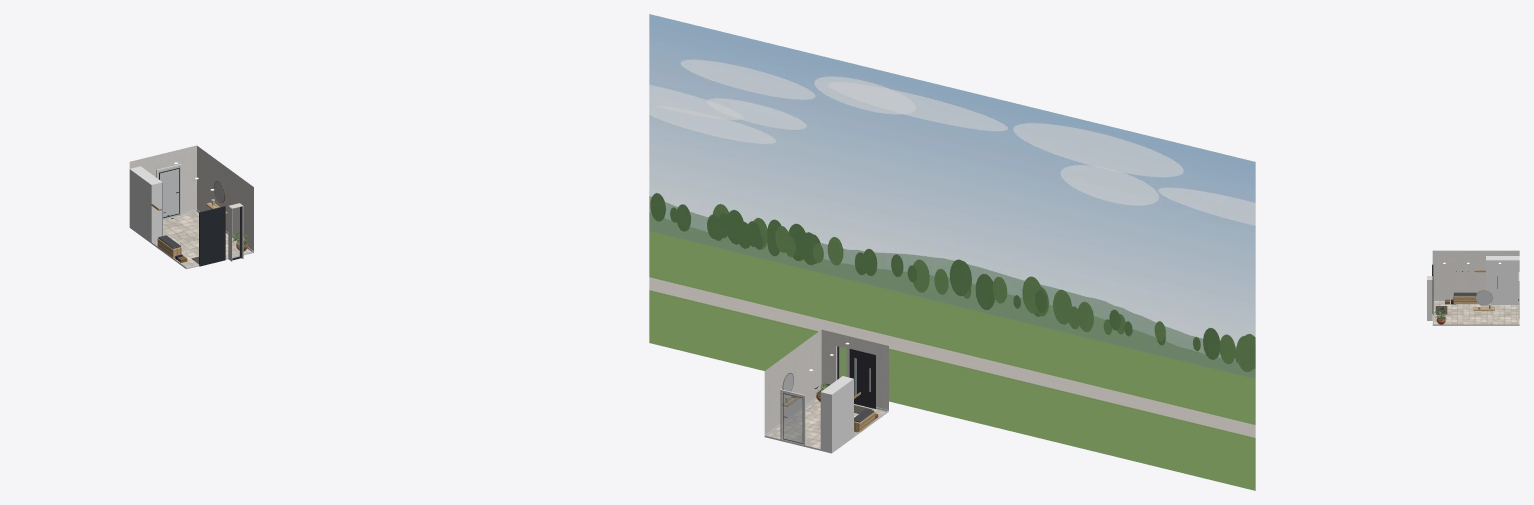
The model's file is hall.glb.
The picture shows the model from 3 angles, left to right: view 1: azimuth 30°, elevation 25°; view 2: azimuth 150°, elevation 25°; view 3: azimuth 270°, elevation 25°; orthographic projection. The views are drawn at different scales.
Visible parts, largest first — view 1: hall_baked, Mesh_19; view 2: Mesh_18, hall_baked, Mesh_19; view 3: hall_baked.
Part boxes in pixels (left/top/right/bottom): hall_baked: left=129, top=145, right=253, bottom=269; Mesh_19: left=158, top=166, right=180, bottom=219; Mesh_18: left=649, top=14, right=1255, bottom=490; hall_baked: left=764, top=329, right=888, bottom=453; Mesh_19: left=781, top=392, right=803, bottom=444; hall_baked: left=1427, top=250, right=1519, bottom=325.
Bounding box in the file's own units: 27 × 14 × 11.91.
Materials: 13 (13 with a texture image).
